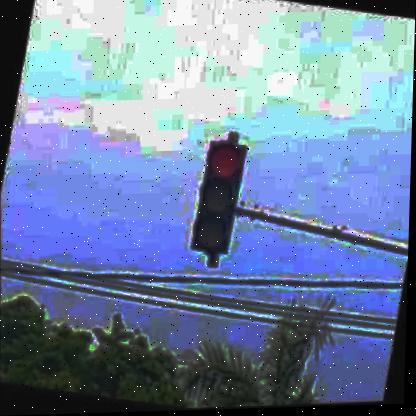Traffic Light -Red-: (187, 139, 249, 255)
